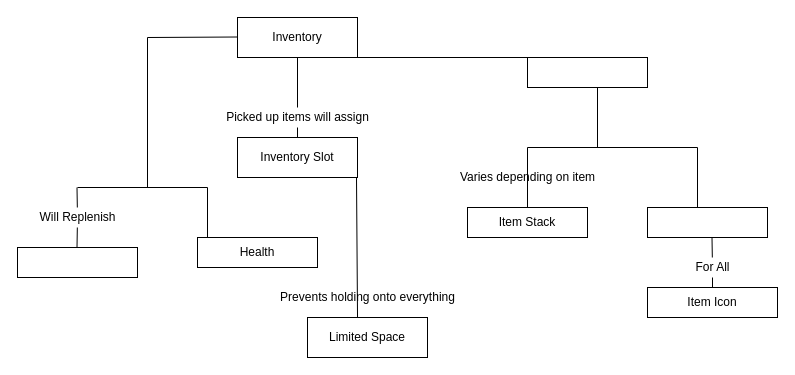
Some shapes in this 795 by 375 pixel diagram are drawn without their labels. Here are the shapes that lost their labels. From the top down, the centre of each, then its label:
pixel 587 72: Abstract Item
pixel 707 222: Item
pixel 77 262: Energy
